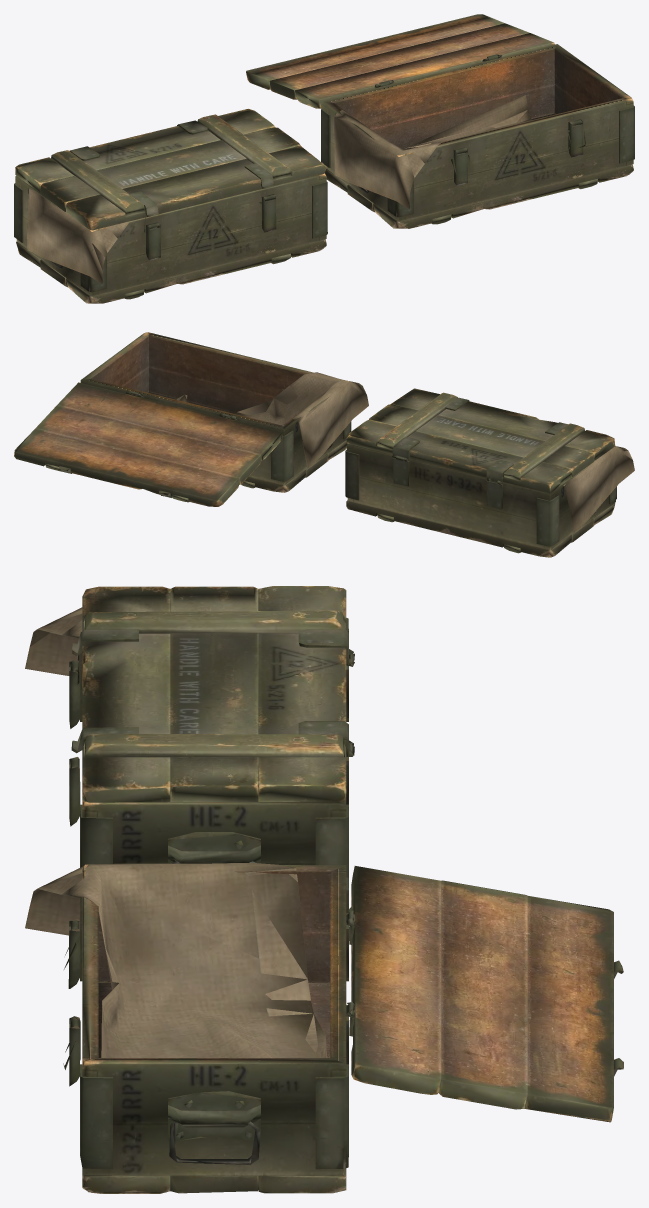
File: old_military_crate.glb
3 views of the same model, one above another, from view 1: azimuth 30°, elevation 25°; view 2: azimuth 150°, elevation 25°; view 3: azimuth 270°, elevation 25° (orthographic). The views are drawn at different scales.
Parts seen in each view (by area): view 1: old_military_crate_lid_a; view 2: old_military_crate_lid_a; view 3: old_military_crate_lid_a.
Boxes of the visible parts, <box> form: old_military_crate_lid_a: <box>14,14,634,303</box>; old_military_crate_lid_a: <box>14,332,634,557</box>; old_military_crate_lid_a: <box>25,586,623,1193</box>.
Bounding box in the file's own units: 1.81 × 0.2982 × 0.9758.
Materials: 1 (1 with a texture image).
